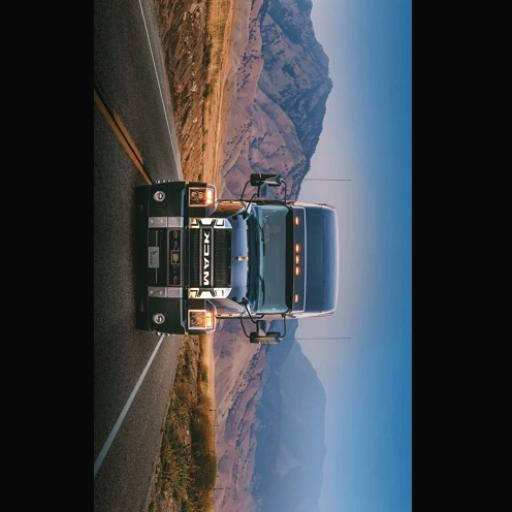truck: (134, 174, 352, 340)
